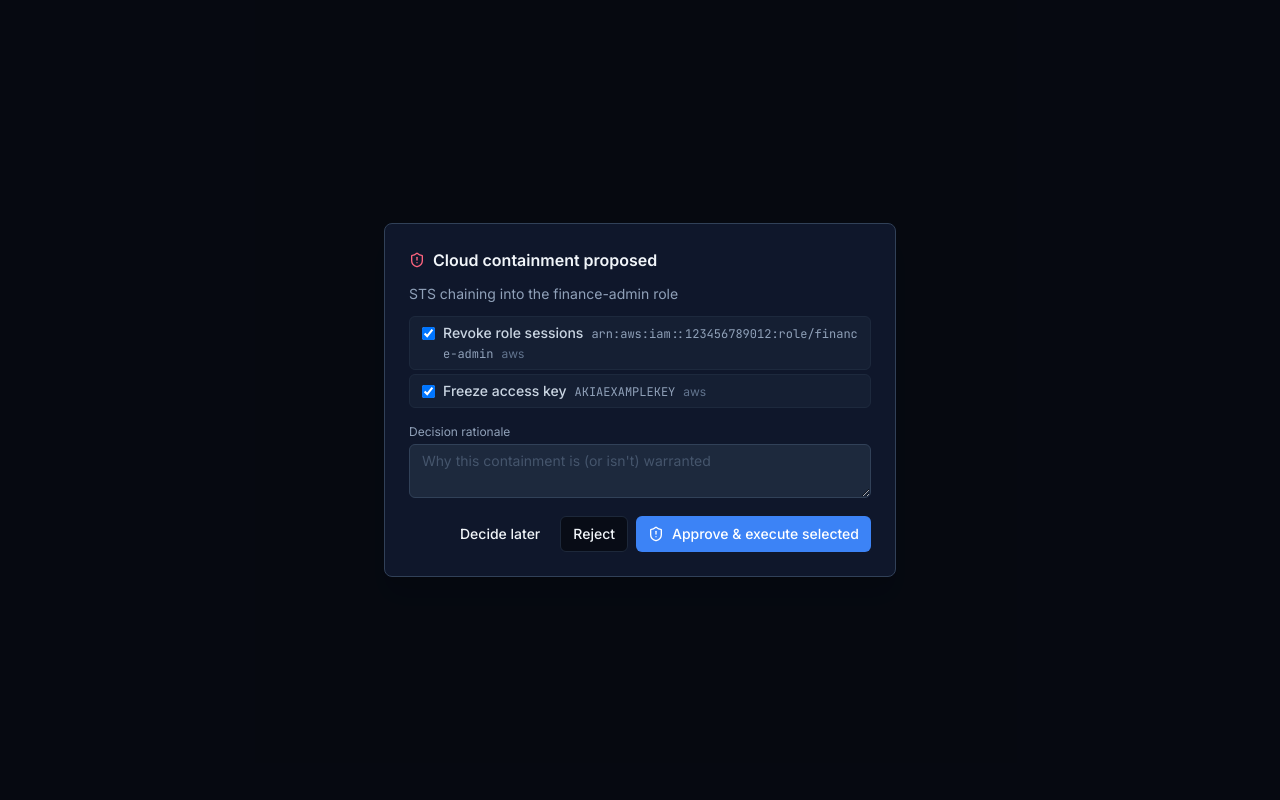
CloudContainmentModal › disables accept when nothing is selected
The width and height of the screenshot is (1280, 800).
Click the checkbox with test id "cloud-containment-select-cca_1": (428, 334) [422, 327, 435, 340]
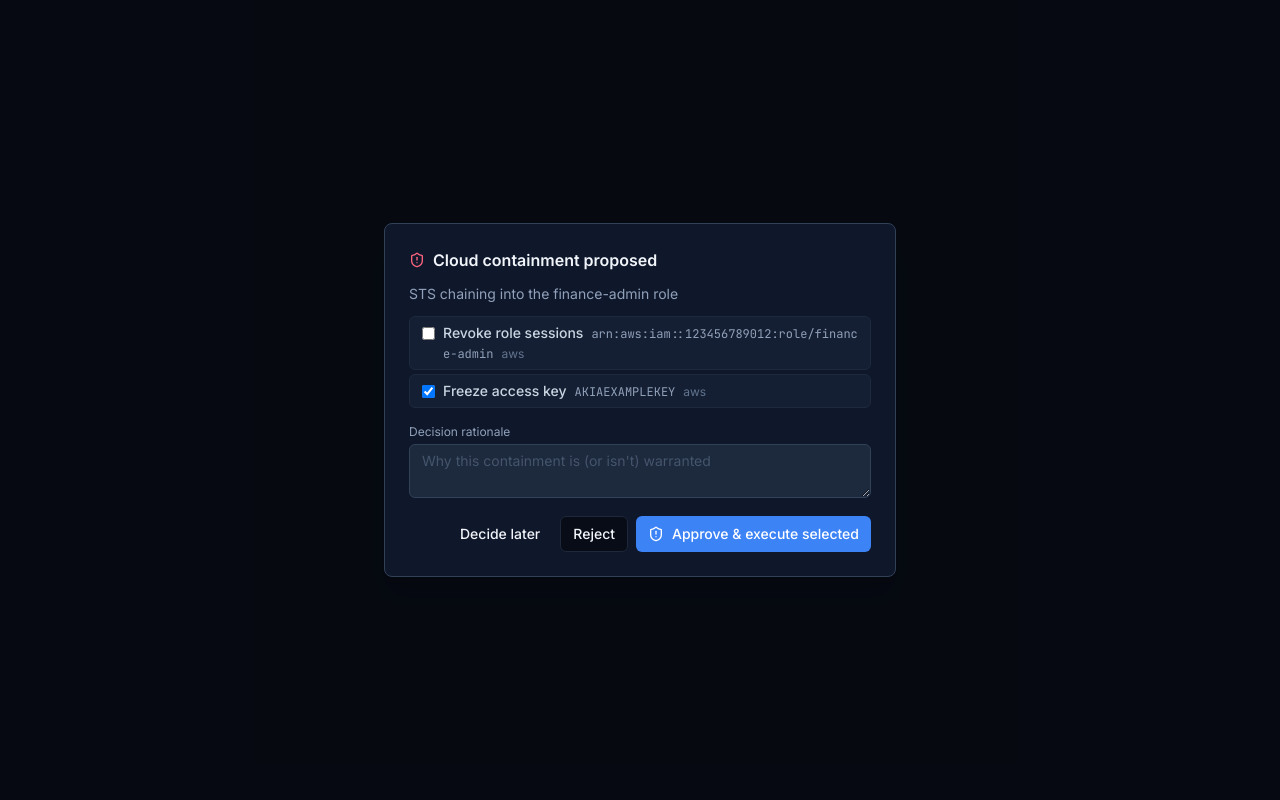
Click the checkbox with test id "cloud-containment-select-cca_2": (428, 392) [422, 385, 435, 398]
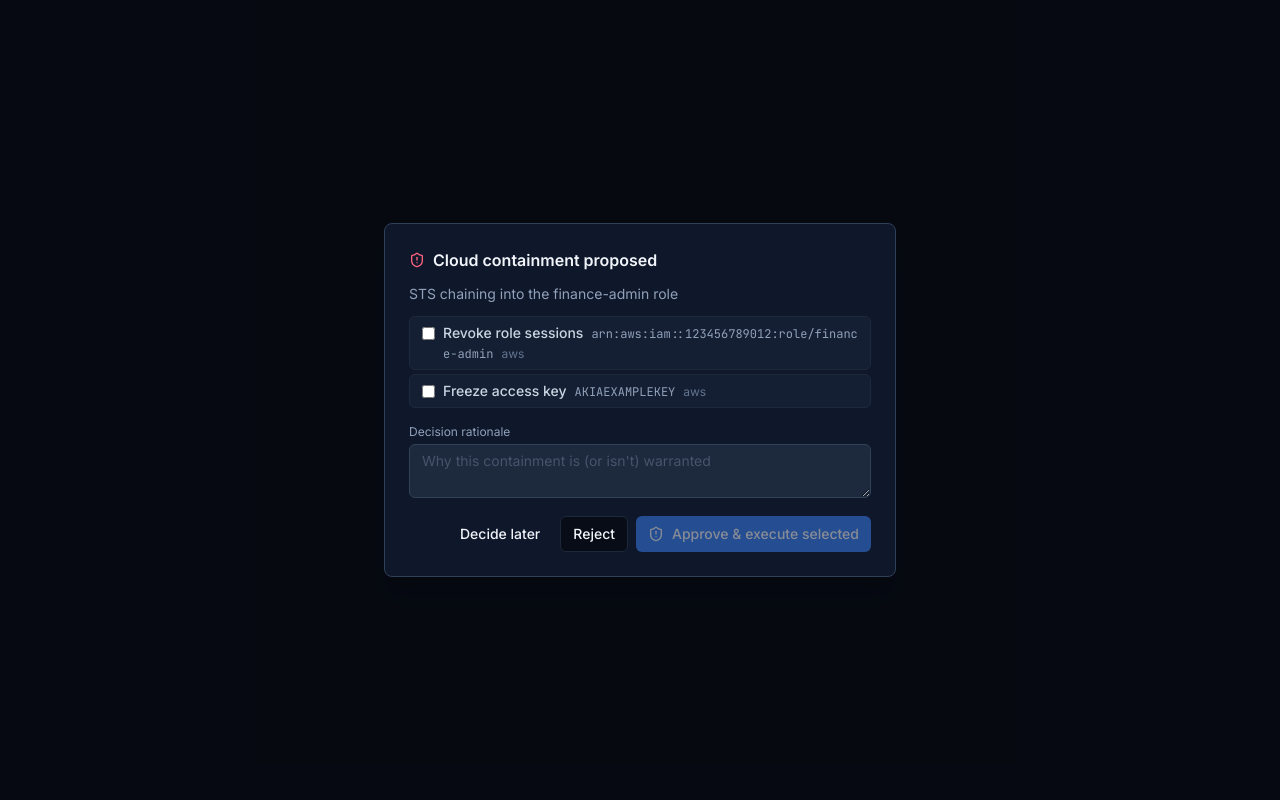
Result: the button with test id "cloud-containment-accept" is disabled at [636, 516, 871, 552]
